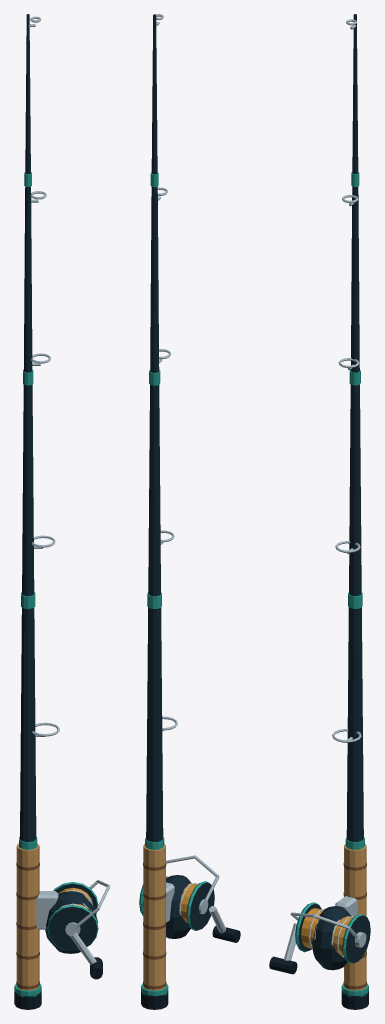
The model's file is fishing_rod_v1.glb.
3 views of the same model, side by side, from view 1: azimuth 90°, elevation 25°; view 2: azimuth 150°, elevation 25°; view 3: azimuth 330°, elevation 25° (orthographic).
Visible parts, largest first — view 1: fishing_rod_v1_StaticMesh; view 2: fishing_rod_v1_StaticMesh; view 3: fishing_rod_v1_StaticMesh.
Boxes of the visible parts, <box> form: fishing_rod_v1_StaticMesh: <box>14,14,110,1009</box>; fishing_rod_v1_StaticMesh: <box>139,14,240,1009</box>; fishing_rod_v1_StaticMesh: <box>269,14,370,1009</box>.
Size of the model in its own units: 0.166 by 2 by 0.1758.
